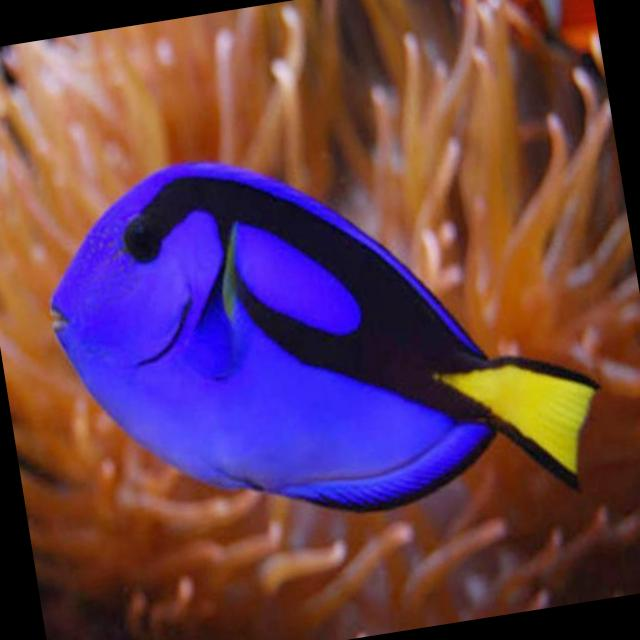TangFish: (24, 97, 614, 566)
